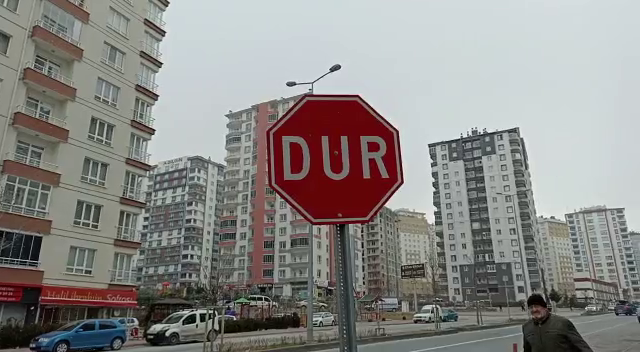stop: (264, 92, 407, 227)
